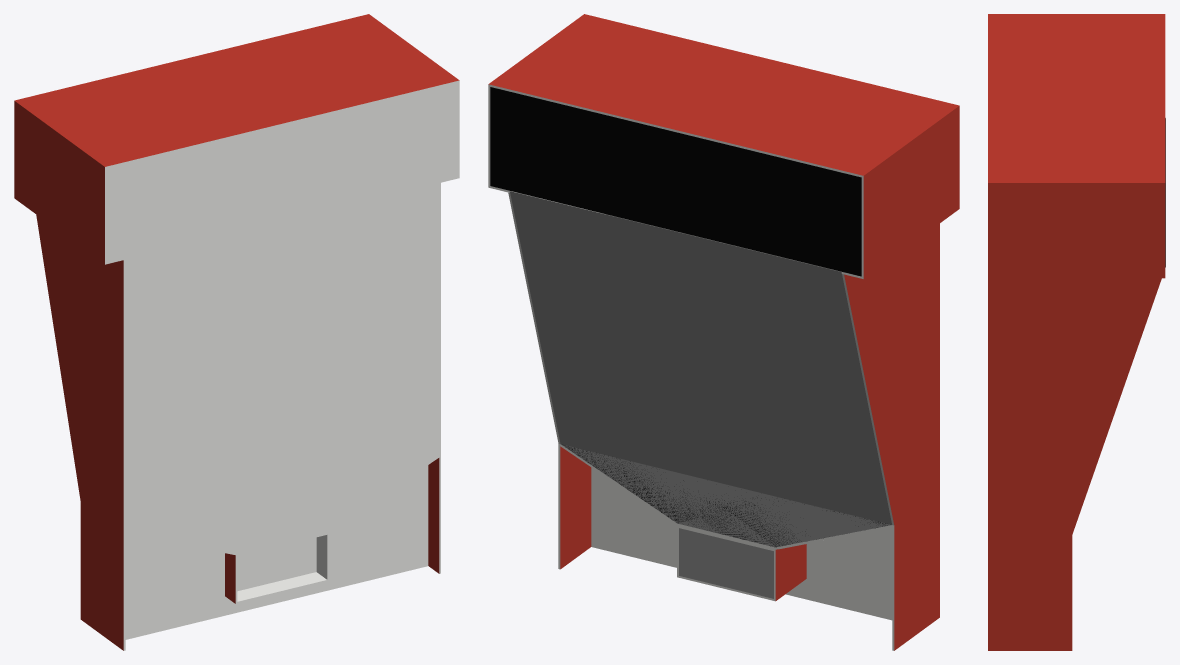
The model's file is Auditorium v1.fbx.
3 renders of one model, left to right at view 1: azimuth 30°, elevation 25°; view 2: azimuth 150°, elevation 25°; view 3: azimuth 270°, elevation 25°, orthographic. The views are drawn at different scales.
Parts seen in each view (by area): view 1: Body11, Body1; view 2: Body1, Body13, Body15, Body12, Body16, Body5; view 3: Body1.
Boxes of the visible parts, x1,y1,x2,y2 form: Body11: [107, 83, 457, 552]; Body1: [14, 14, 459, 650]; Body1: [488, 14, 959, 650]; Body13: [510, 193, 891, 547]; Body15: [490, 87, 861, 276]; Body12: [679, 528, 773, 598]; Body16: [562, 444, 887, 547]; Body5: [509, 191, 841, 273]; Body1: [988, 14, 1165, 650].
Bounding box in the file's own units: 19 × 25 × 8.45.
